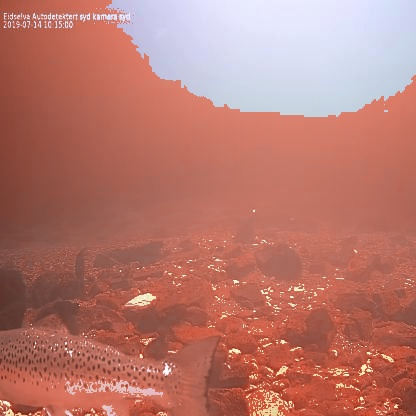salmon: (0, 309, 224, 415)
